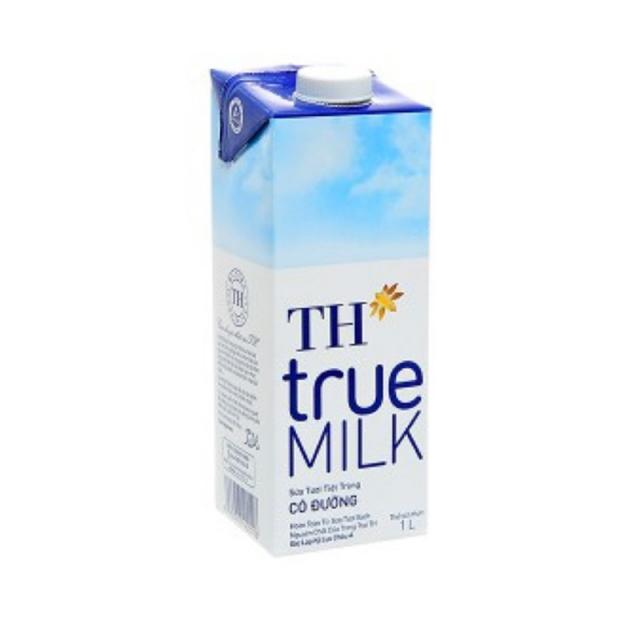non_white_jug: (188, 47, 450, 552)
